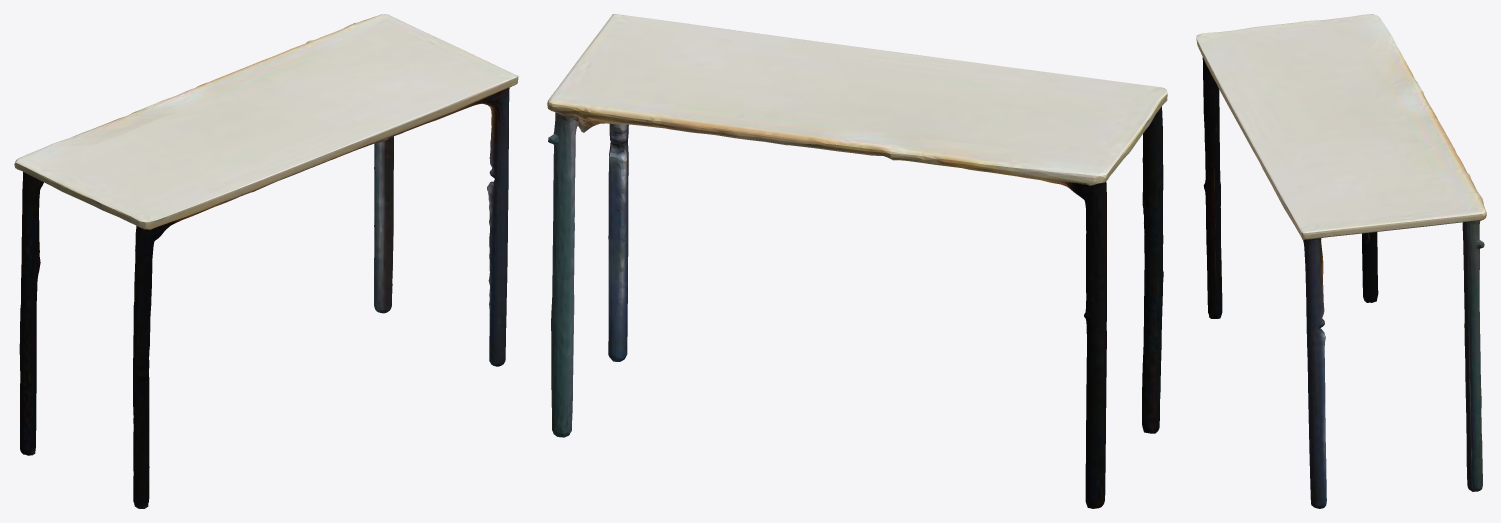
The picture shows the model from 3 angles, left to right: view 1: azimuth 30°, elevation 25°; view 2: azimuth 150°, elevation 25°; view 3: azimuth 270°, elevation 25°; orthographic projection. The views are drawn at different scales.
Parts seen in each view (by area): view 1: world; view 2: world; view 3: world.
Boxes of the visible parts, x1=… form: world: x1=14, y1=14, x2=518, y2=508; world: x1=547, y1=14, x2=1167, y2=508; world: x1=1196, y1=14, x2=1486, y2=508.
Size of the model in its own units: 0.5151 by 0.3136 by 0.2895.
1 material, 1 textured.
